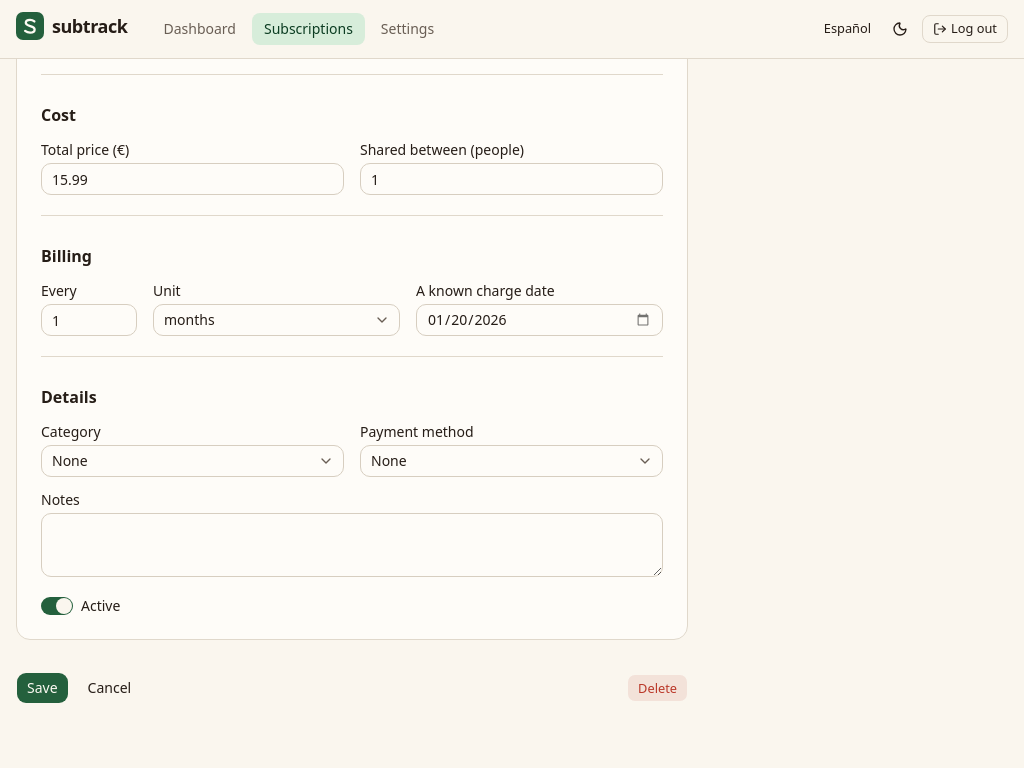
Scenario: deletes after confirming
(page scrolled)
Click the button "Delete" at (658, 688), box [627,674,688,702]
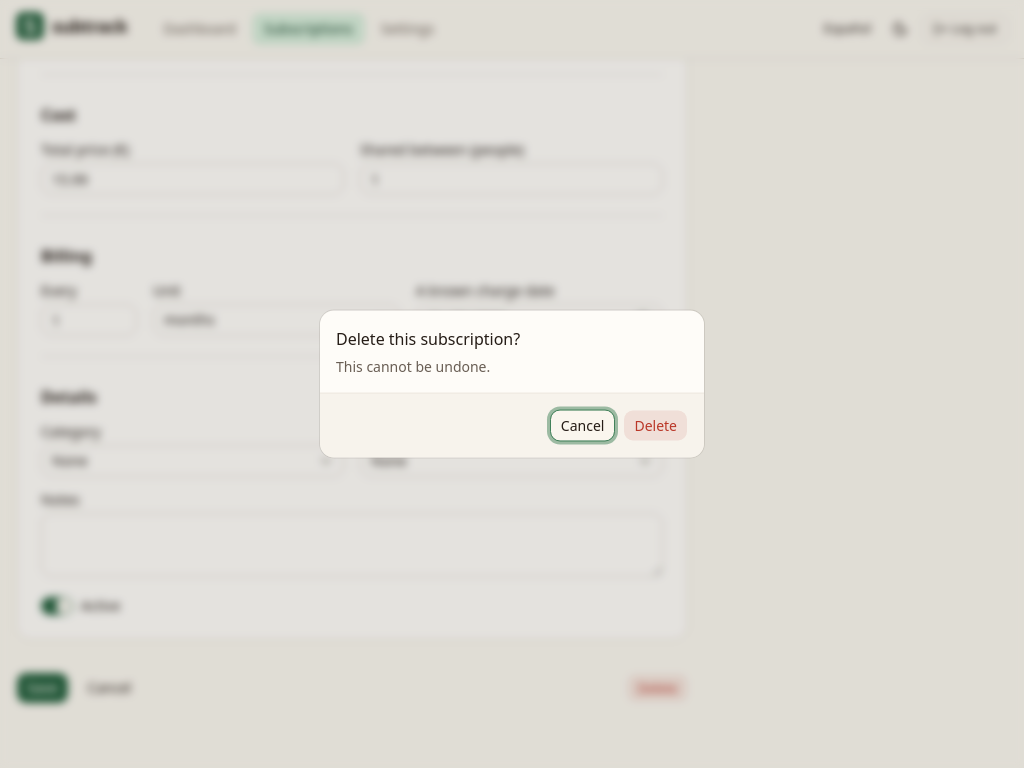
Click the button "Delete" at (656, 426), box [623,410,688,442]
(page scrolled)
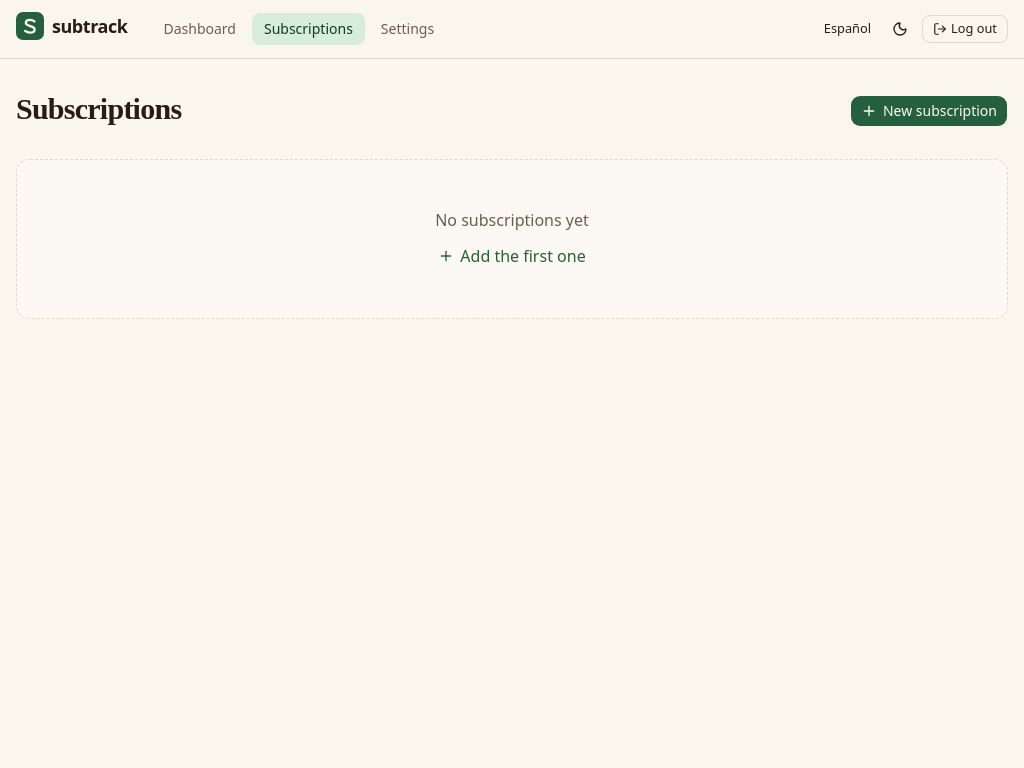
expect the text "No subscriptions yet" is shown: met, box [435,209,589,231]
